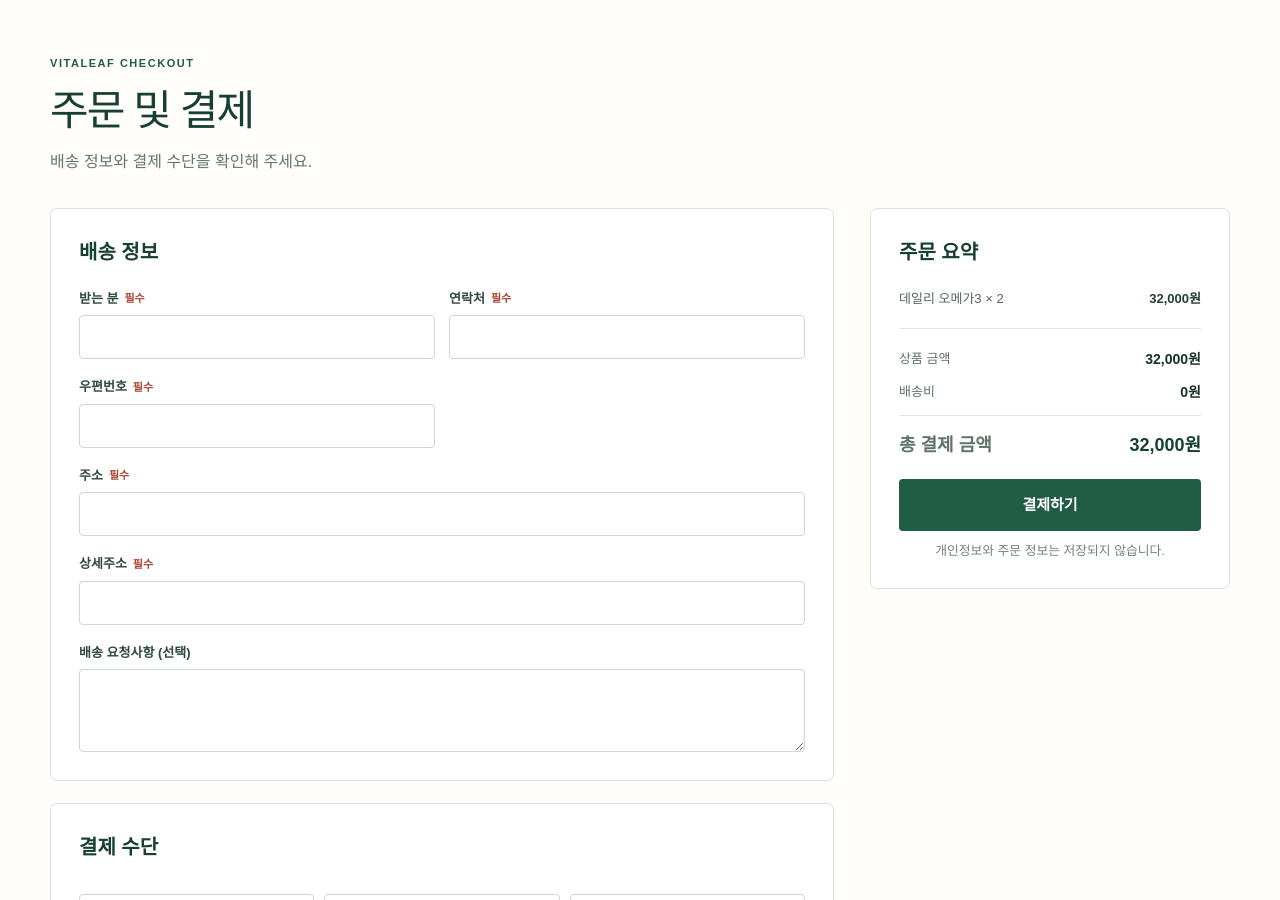
it: rejects a near-valid 010 number with only seven subscriber digits
This screenshot has width=1280, height=900.
Expected: the button "결제하기" is shown, [899, 479, 1201, 531]
In the field labelled "받는 분": [257, 337] box [79, 315, 435, 359], type "홍길동"
In the field labelled "연락처": [627, 337] box [449, 315, 805, 359], type "010-123-4567"
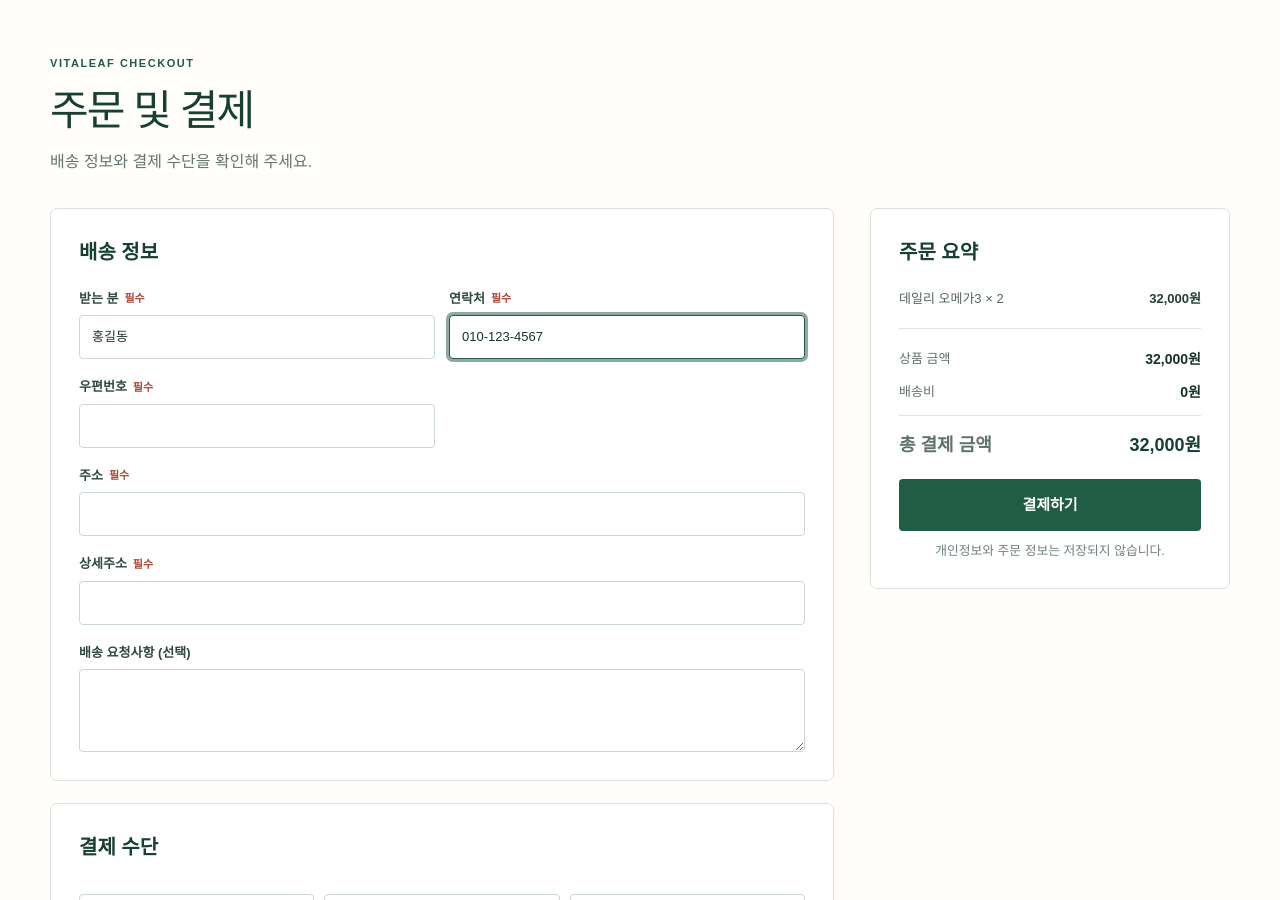
In the field labelled "우편번호": [257, 426] box [79, 404, 435, 448], type "06236"
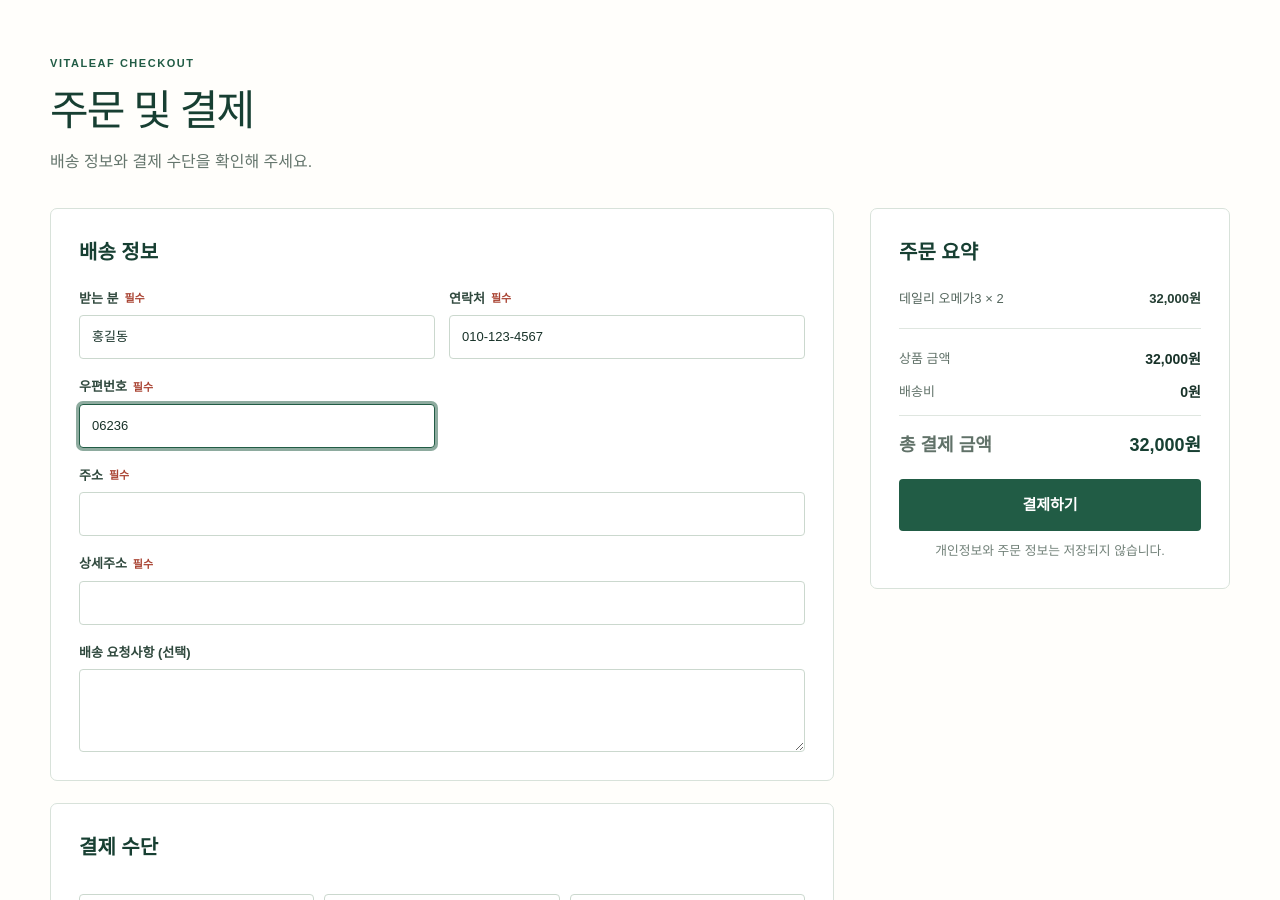
In the field labelled "주소": [442, 514] box [79, 492, 805, 536], type "서울특별시 강남구 테헤란로 123"
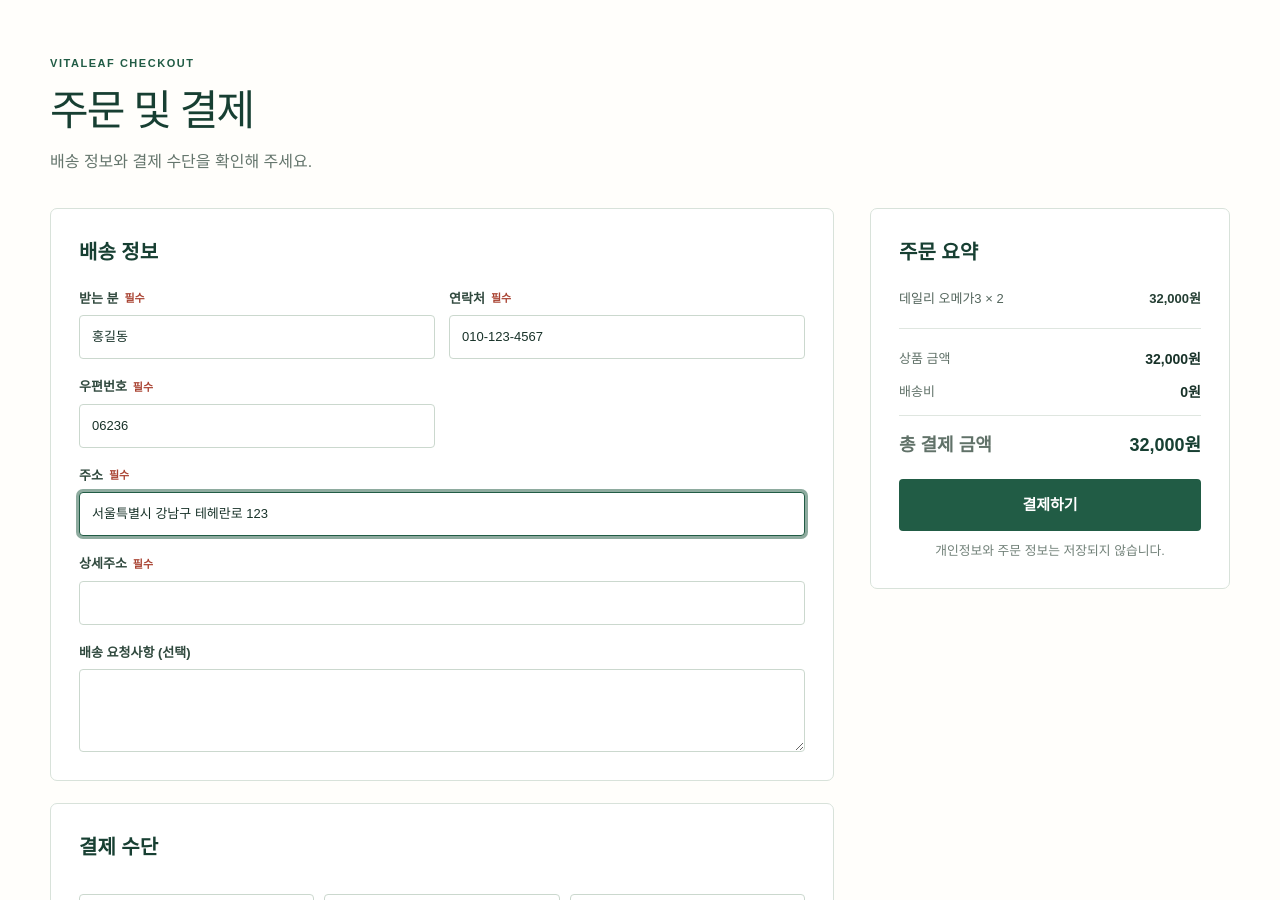
In the field labelled "상세주소": [442, 602] box [79, 580, 805, 624], type "4층"
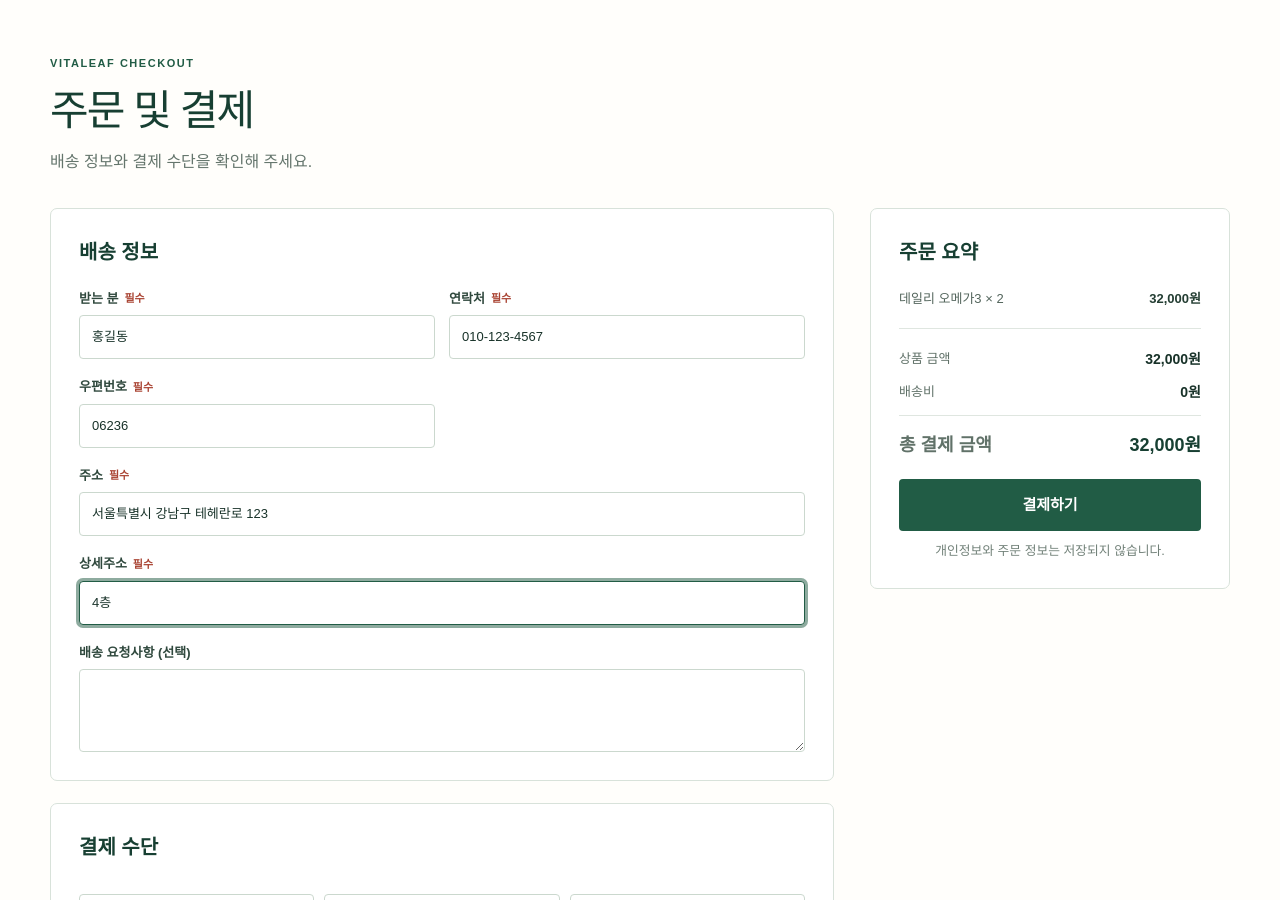
In the text box labelled "배송 요청사항 (선택)": [442, 710] box [79, 669, 805, 752], type "문 앞에 놓아 주세요."
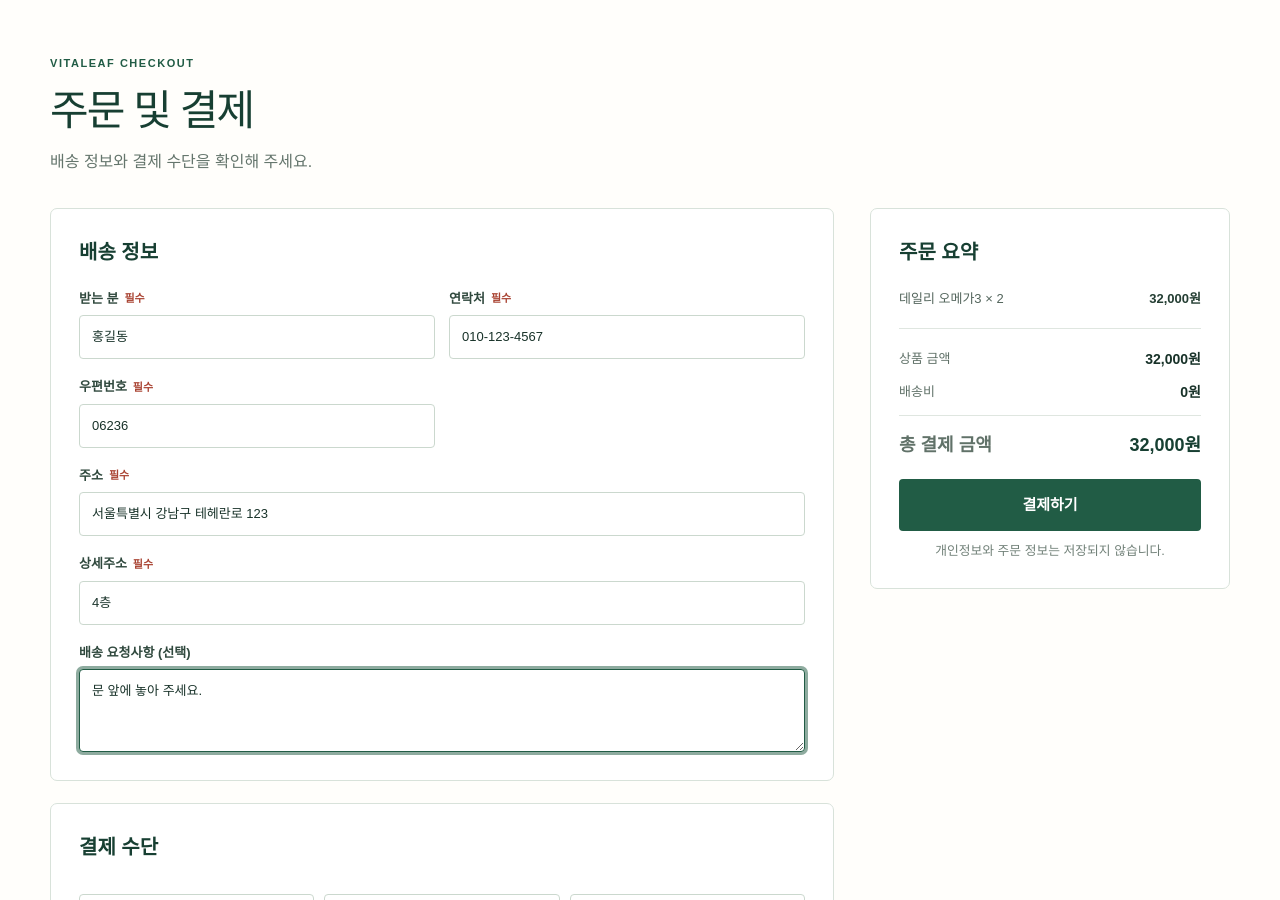
Click the button "결제하기": [1050, 505] box [899, 479, 1201, 531]
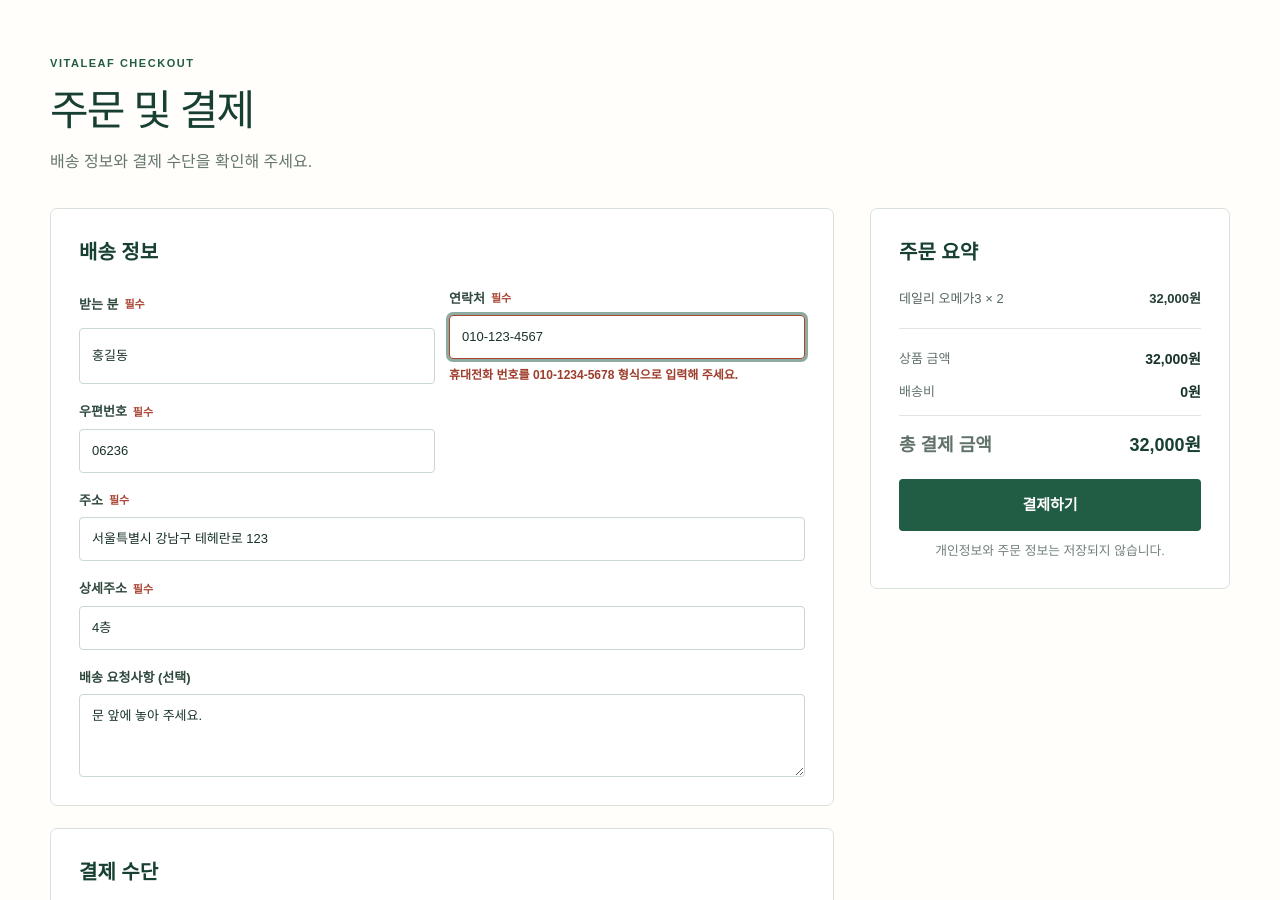
Expected: the text "휴대전화 번호를 010-1234-5678 형식으로 입력해 주세요." is shown, [449, 368, 738, 382]
